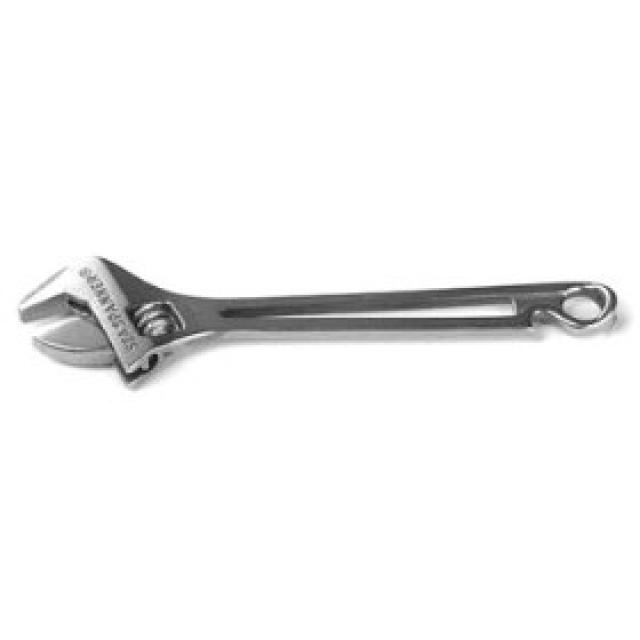wrench: (20, 258, 616, 381)
